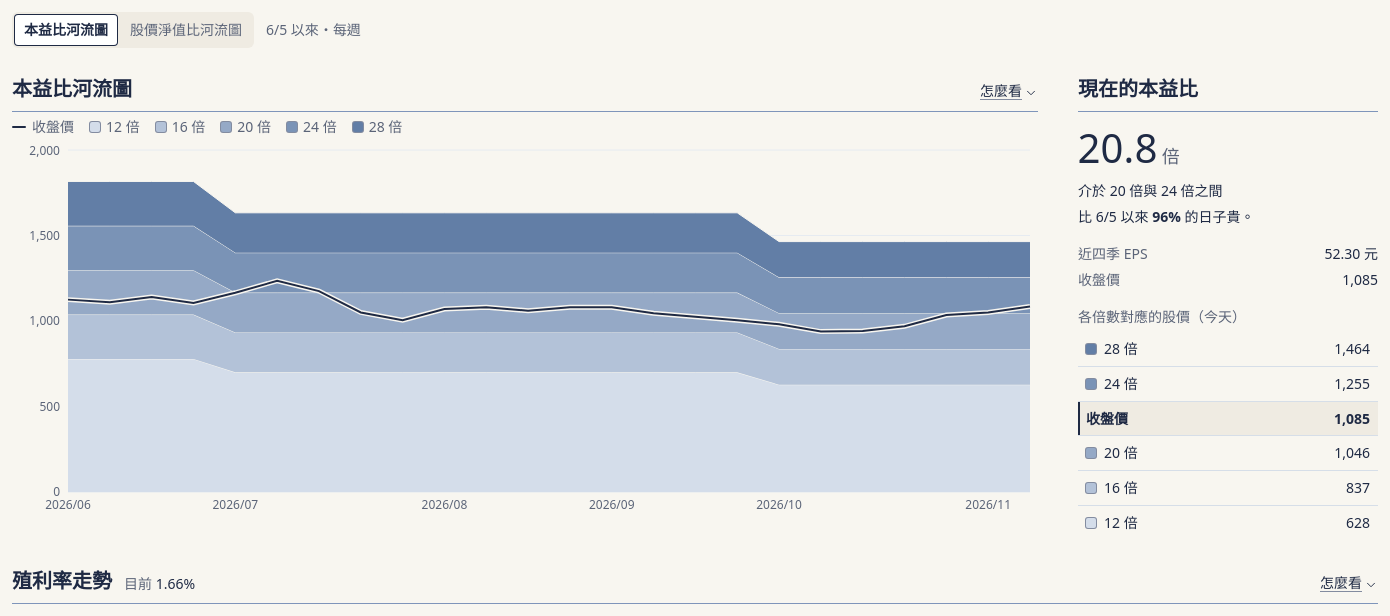
Test: 估值分頁 › 術語說明收在「怎麼看 ⌄」：預設收著，按了才打開；每股金額寫「元」，倍數價依升降單位
This screenshot has width=1390, height=616.
Click the button "怎麼看" next to "現在的本益比": (1009, 87) 980,71 -> 1038,103
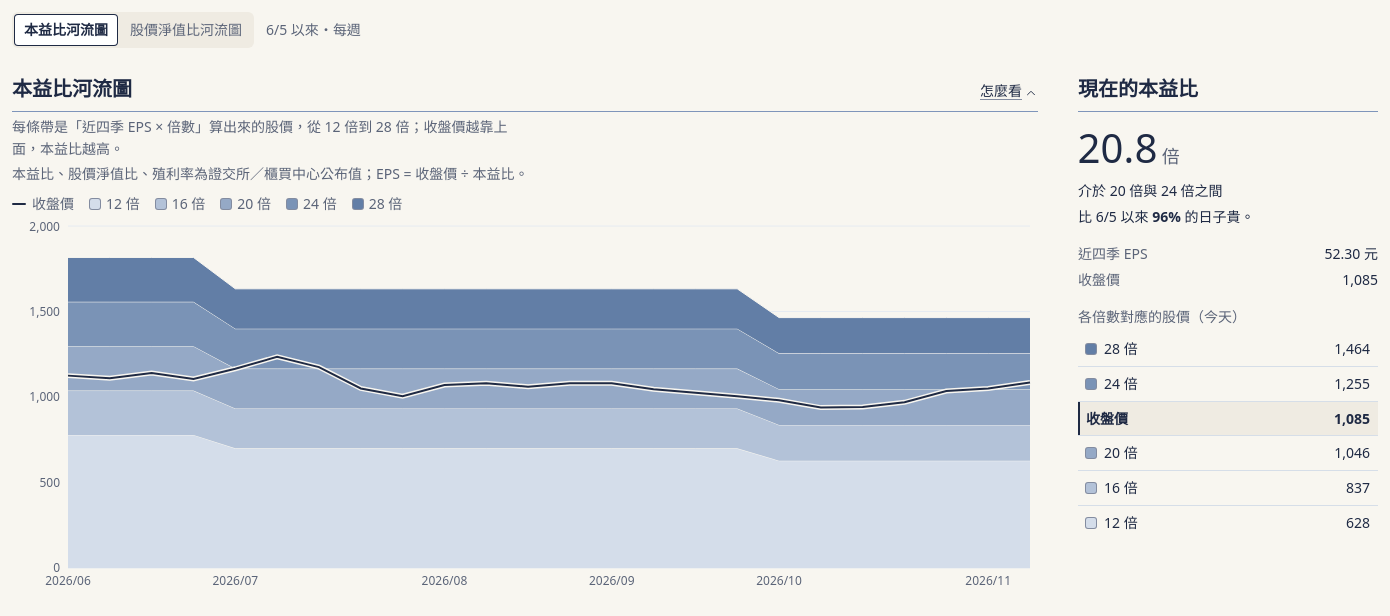
Expected: the text "52.30 元" is shown, 1325,243 -> 1378,265
Now the text "本益比、股價淨值比、殖利率為證交所／櫃買中心公布值；EPS = 收盤價 ÷ 本益比。" is shown, box 12,163 -> 532,185
